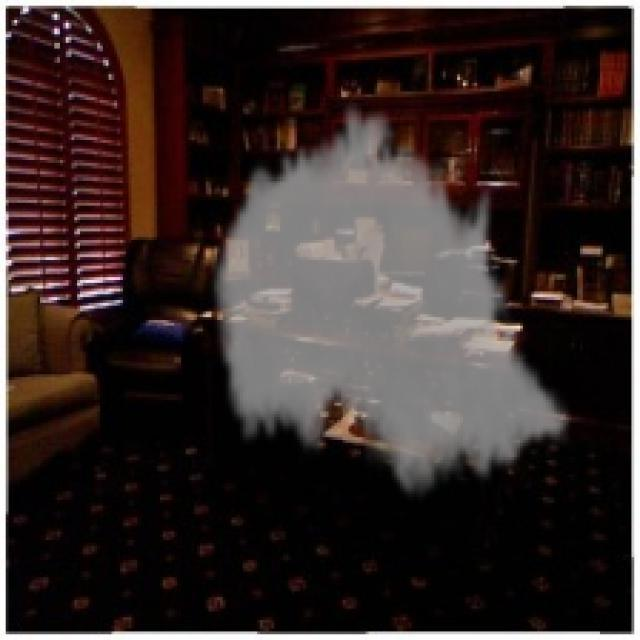Smoke: (208, 97, 572, 509)
